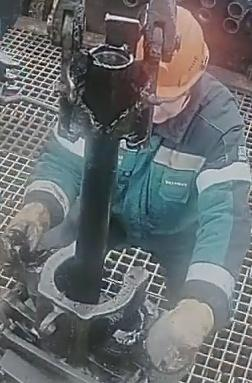gloves: (145, 282, 217, 374), (3, 195, 54, 259)
helmet: (148, 3, 212, 112)
vest: (63, 106, 249, 266)
